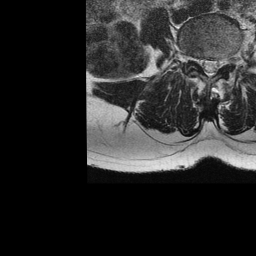CCS_normal: (206, 53, 214, 83)
LFS_stenosis: (221, 54, 229, 73)
LLS_normal: (213, 54, 221, 76)
RFS_severe_stenosis: (192, 52, 199, 73)
RLS_normal: (199, 53, 207, 78)
